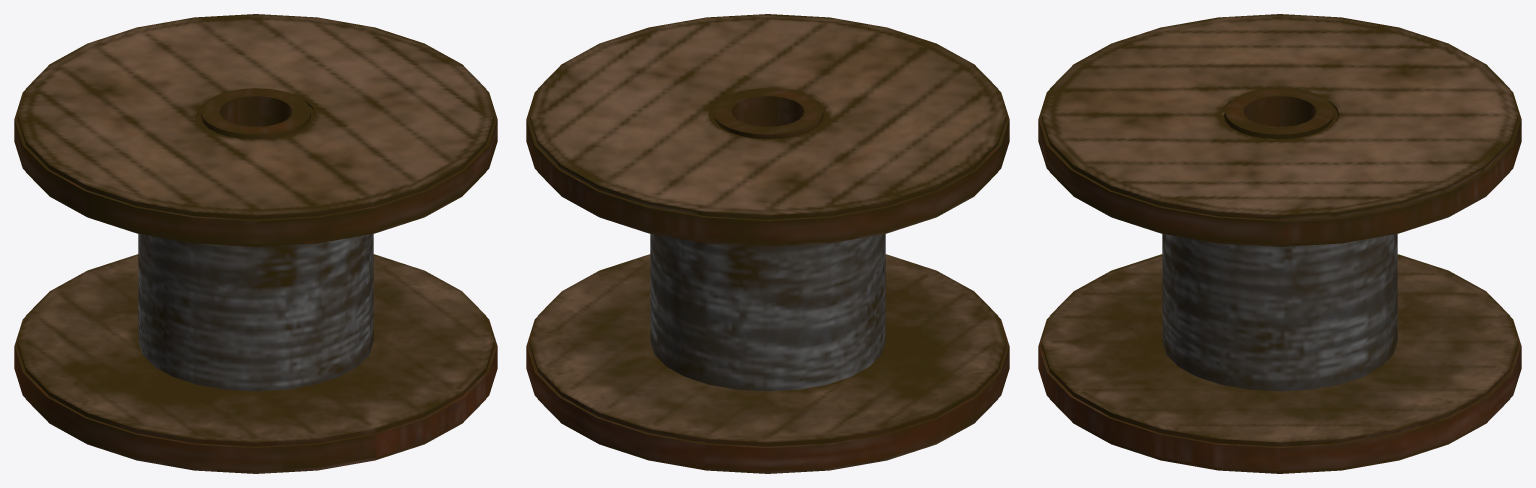
Rendered from Full Spool.fbx.
3 views of the same model, side by side, from view 1: azimuth 30°, elevation 25°; view 2: azimuth 150°, elevation 25°; view 3: azimuth 270°, elevation 25° (orthographic).
Parts seen in each view (by area): view 1: Cylinder.002; view 2: Cylinder.002; view 3: Cylinder.002.
Part boxes in pixels (box(x1,y1,x2,y2)): Cylinder.002: box(14, 14, 497, 473); Cylinder.002: box(526, 14, 1009, 473); Cylinder.002: box(1038, 14, 1521, 473).
Size of the model in its own units: 127 by 76.83 by 127.
